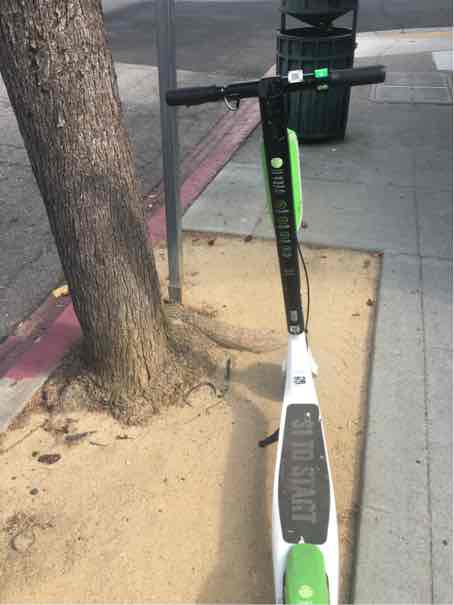scooter: (162, 53, 404, 603)
